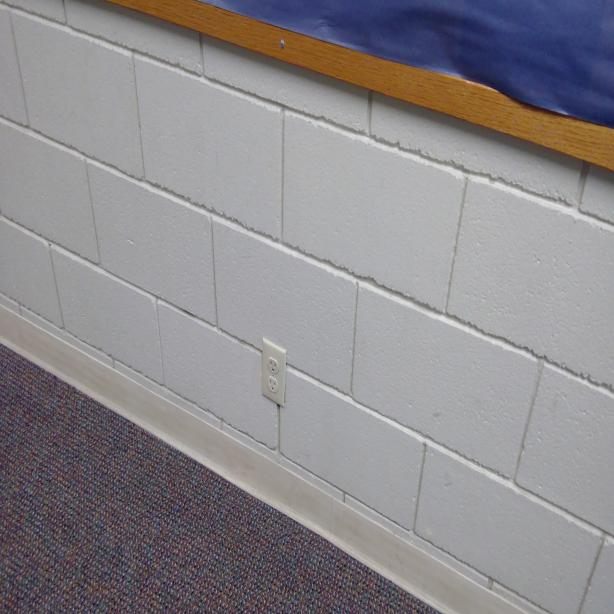typeb: (267, 376, 278, 396), (268, 357, 278, 374)
